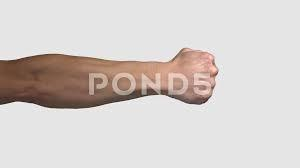Right-Fist: (129, 46, 218, 107)
